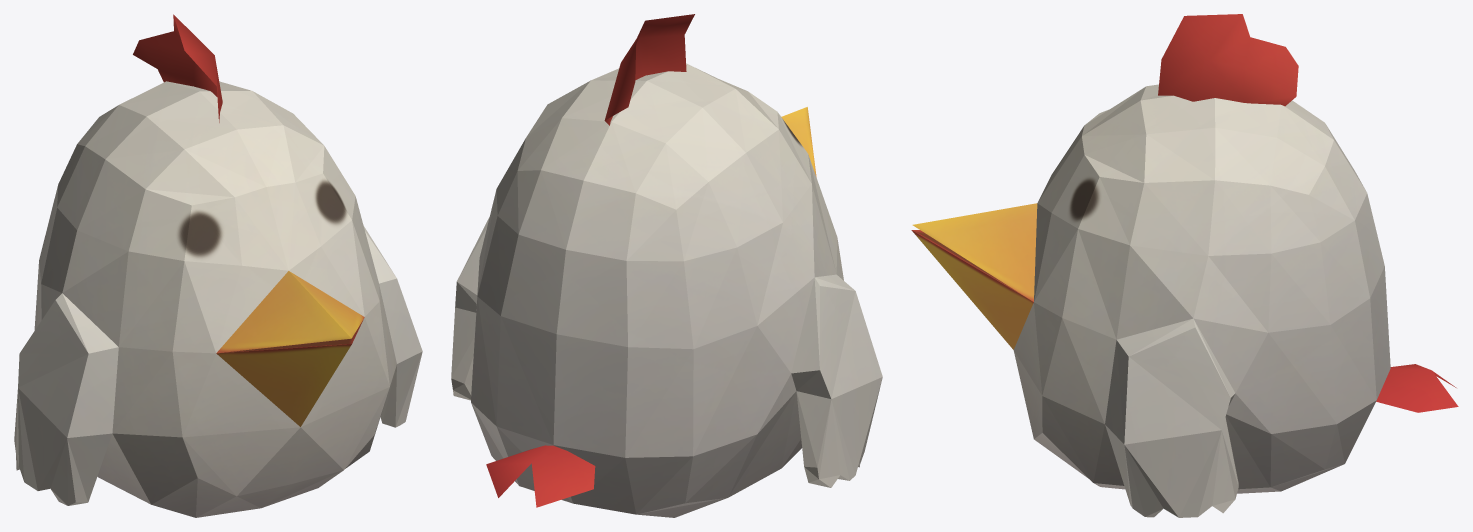
Rendered from food_chicken.FBX.
3 views of the same model, side by side, from view 1: azimuth 30°, elevation 25°; view 2: azimuth 150°, elevation 25°; view 3: azimuth 270°, elevation 25° (orthographic). The views are drawn at different scales.
Visible parts, largest first — view 1: food_chicken; view 2: food_chicken; view 3: food_chicken.
Boxes of the visible parts, x1,y1,x2,y2 form: food_chicken: [14, 14, 422, 517]; food_chicken: [451, 14, 882, 517]; food_chicken: [911, 14, 1458, 517].
Size of the model in its own units: 219 by 257 by 284.
